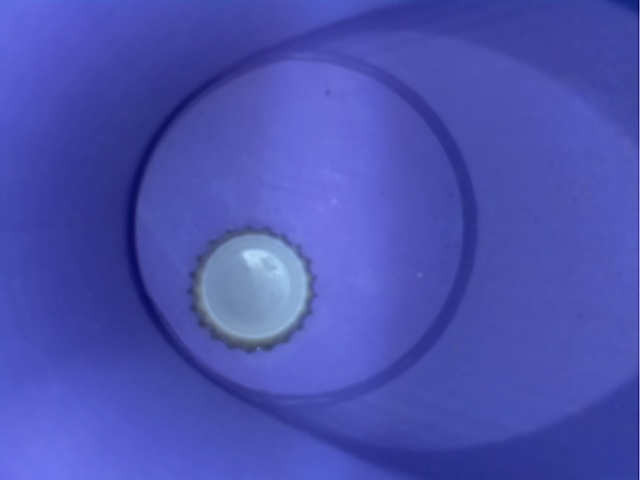capsule: (167, 214, 329, 372)
